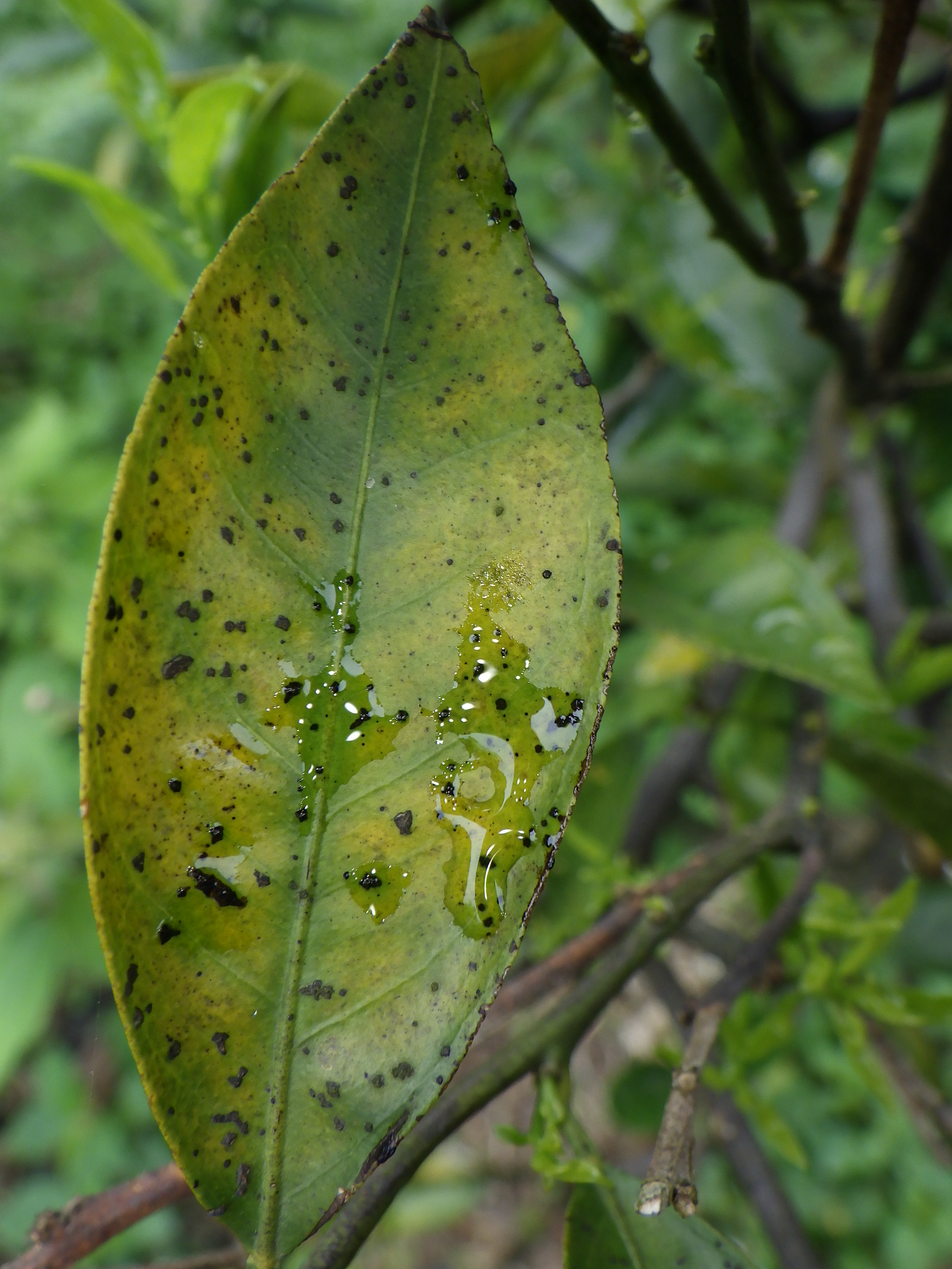Oily_Spot: (81, 11, 621, 1268)
